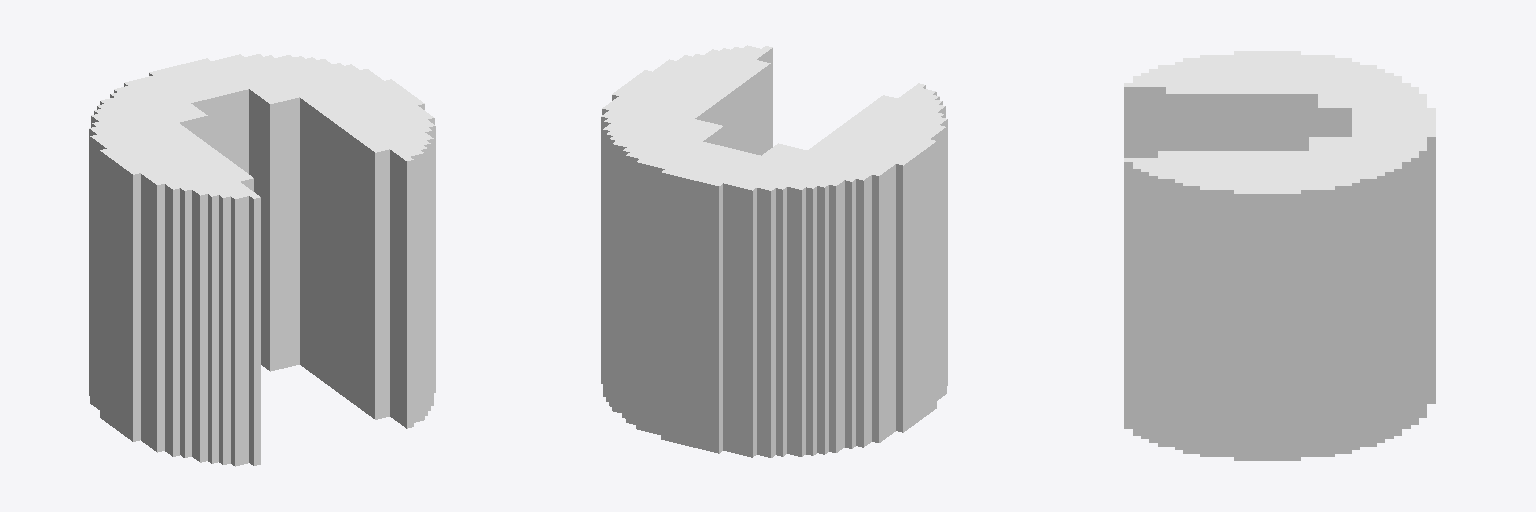
The picture shows the model from 3 angles: view 1: azimuth 30°, elevation 25°; view 2: azimuth 150°, elevation 25°; view 3: azimuth 270°, elevation 25°; orthographic projection.
Parts seen in each view (by area): view 1: object 1; view 2: object 1; view 3: object 1.
Boxes of the visible parts, x1,y1,x2,y2 form: object 1: [89, 54, 435, 466]; object 1: [601, 45, 947, 457]; object 1: [1124, 51, 1435, 460].
Size of the model in its own units: 4 by 3.5 by 3.7.
Materials: 1 (1 with a texture image).